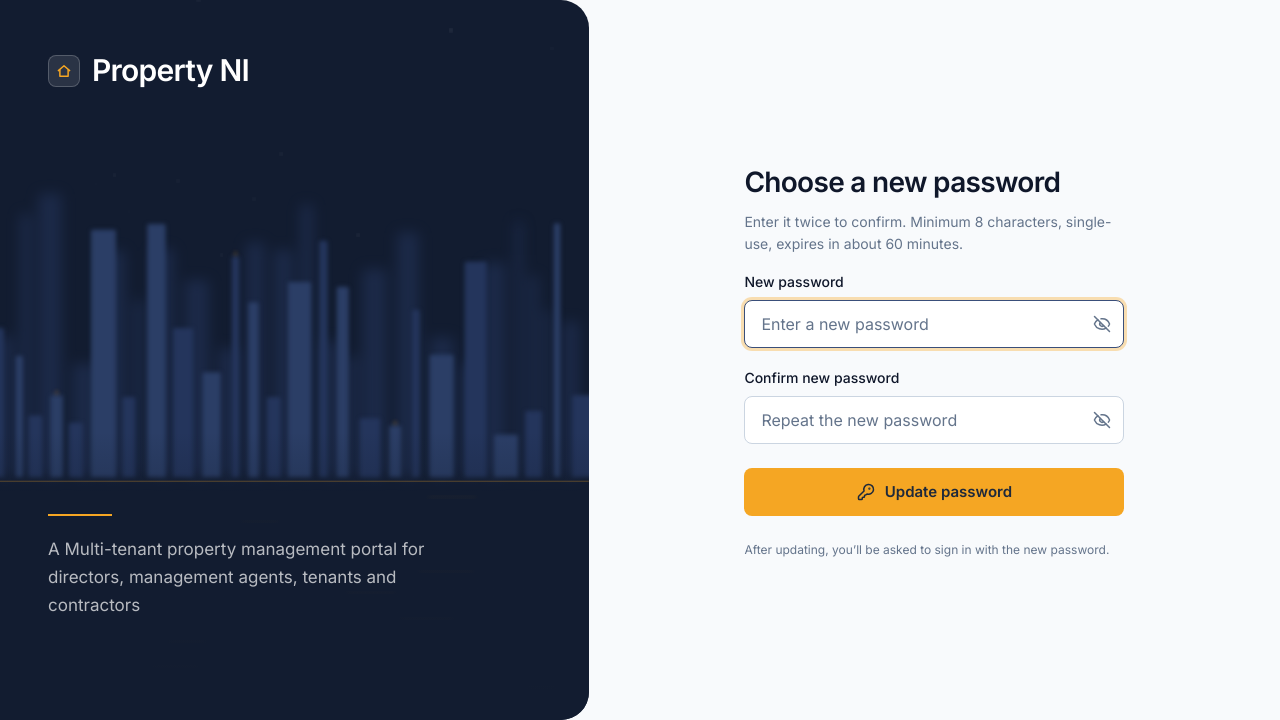
Test: /auth/reset-password page › mismatch blocks submit — inline error, no POST; typing clears it
Type "S3cretpass!" into the password field labelled "New password". click: coordinates (934, 324)
box: [744,300,1124,348]
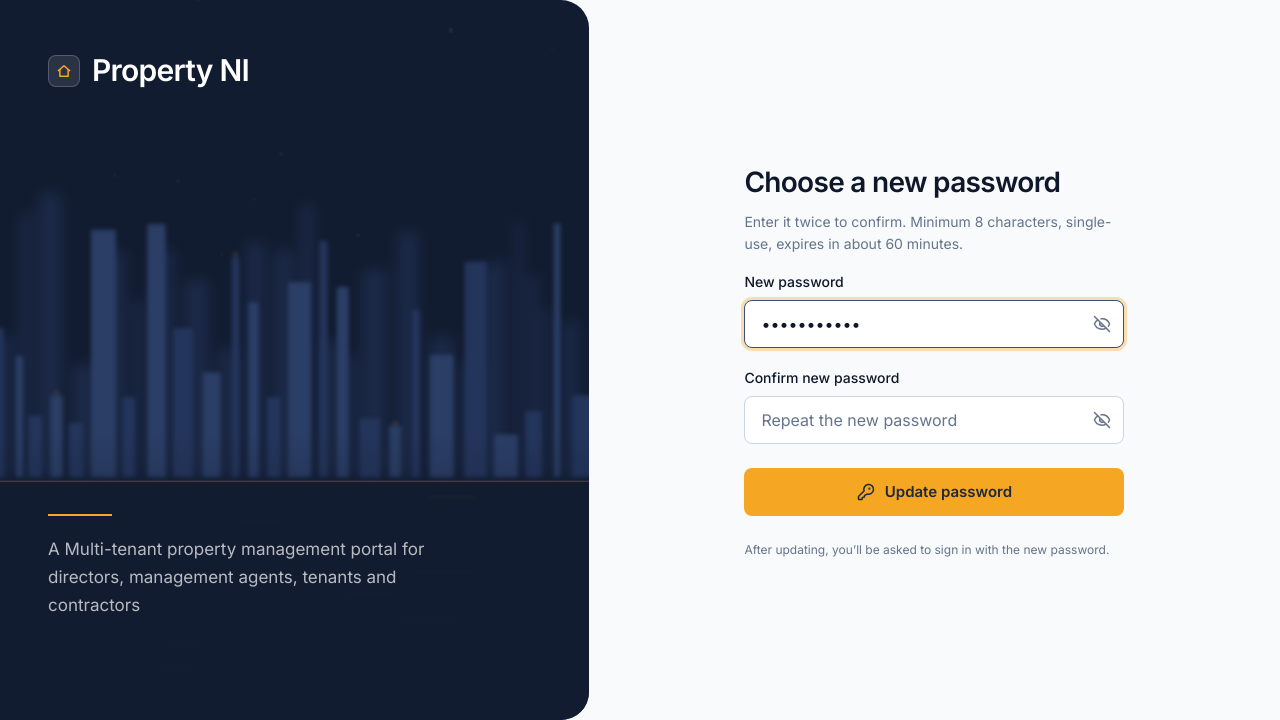
Type "other!" into the password field labelled "Confirm new password". click: coordinates (934, 420)
box: [744,396,1124,444]
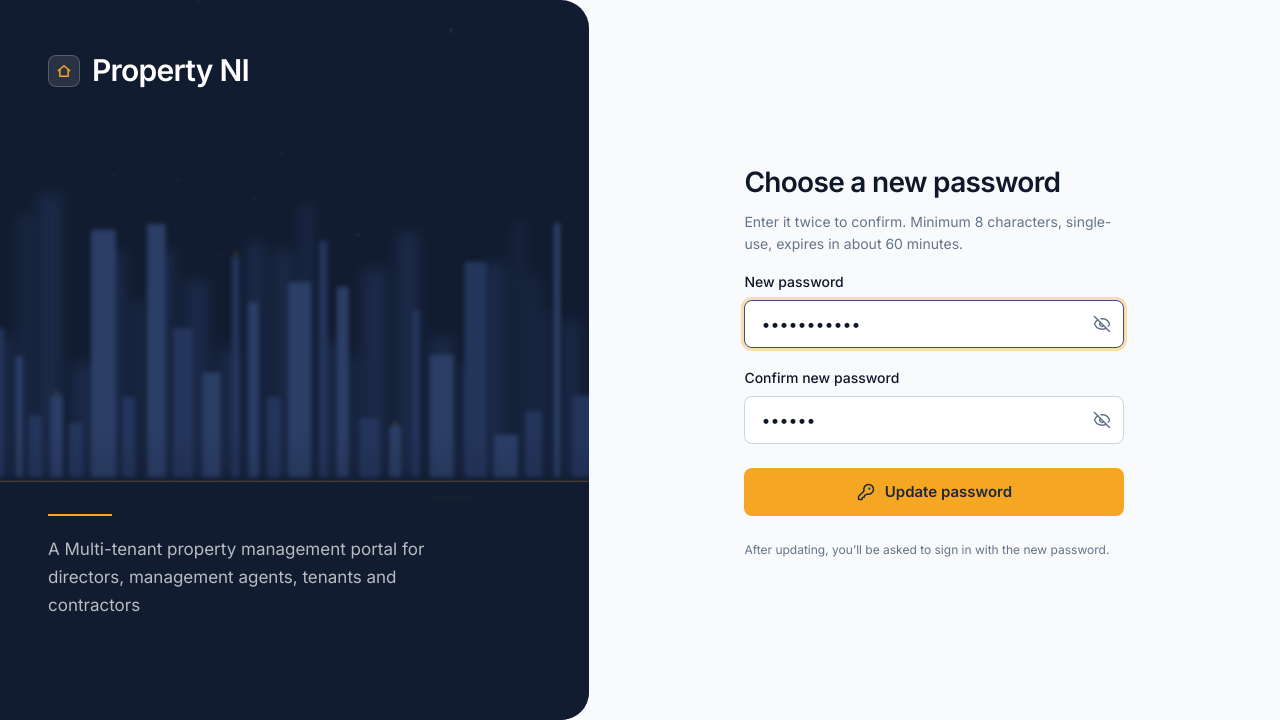
Click the button "Update password". click: coordinates (934, 492)
box: [744,468,1124,516]
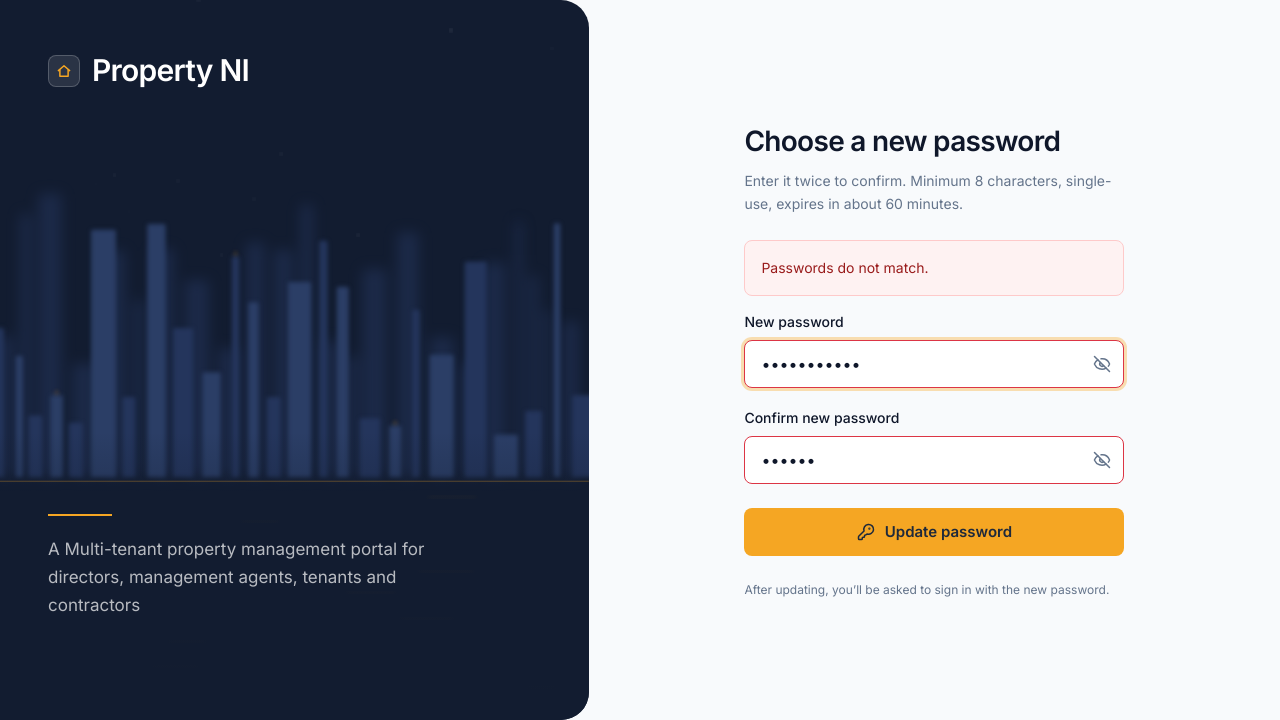
Expected: the message shows "do not match", [761,259,928,276]
Type "S3cretpass!" into the password field labelled "Confirm new password". click: coordinates (934, 460)
box: [744,436,1124,484]
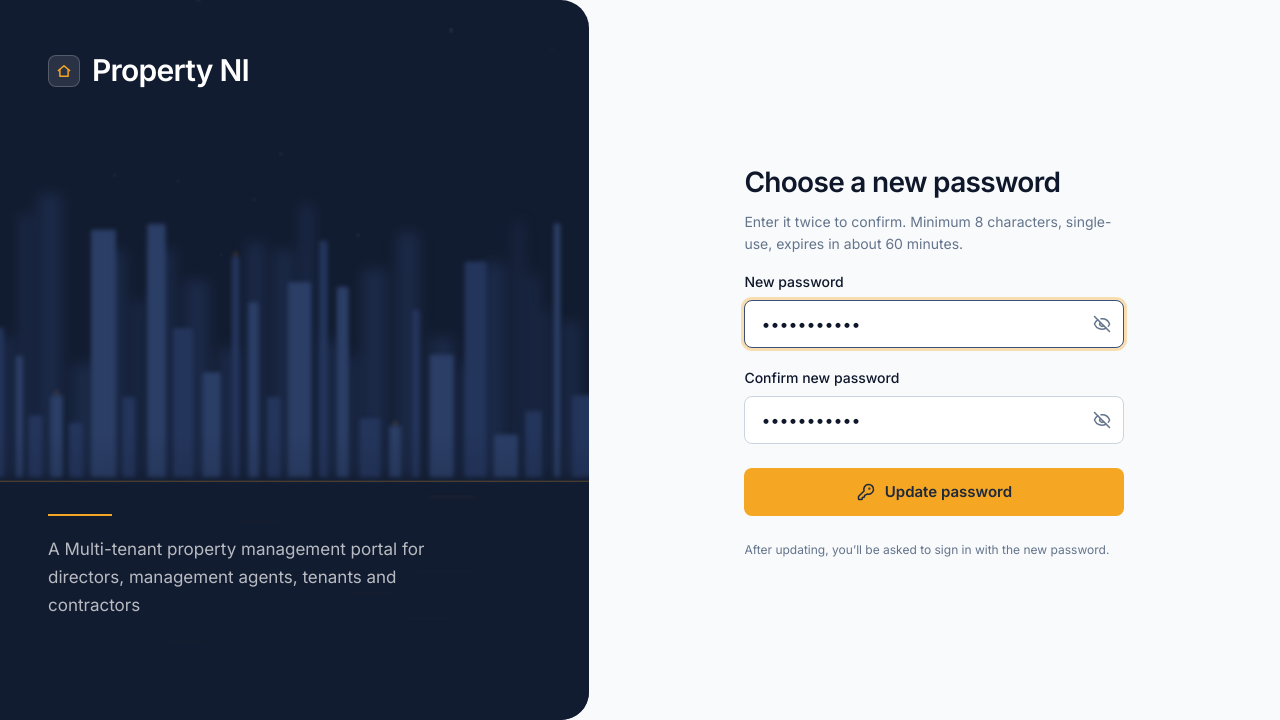
Expected: the message "Passwords do not match." is gone
